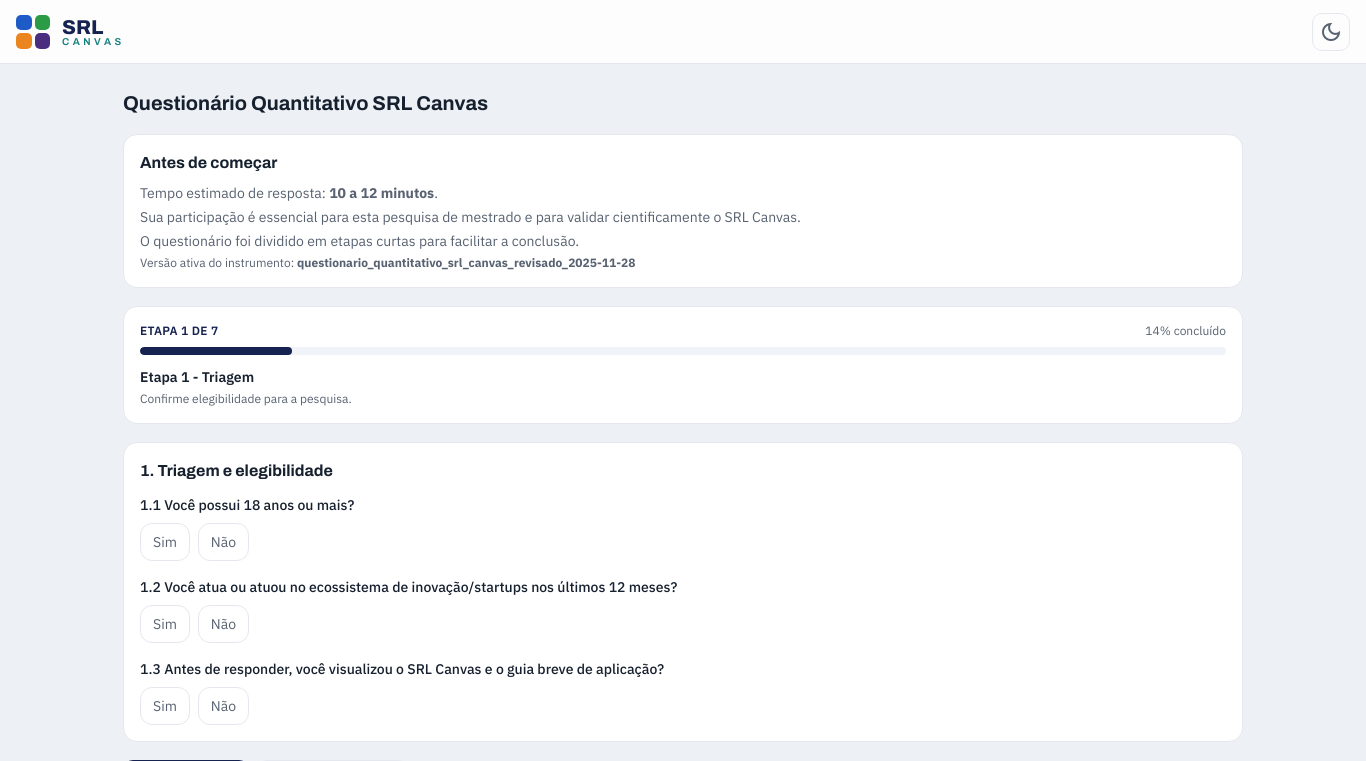
it: ResearchSurveyPage › shows step progress and advances after valid triage
Check: the text "Etapa 1 de 7" is shown, box [140, 323, 218, 339]
Click the radio button labelled "Sim" below "1.1 Você possui 18 anos ou mais?": (165, 542) [140, 523, 190, 561]
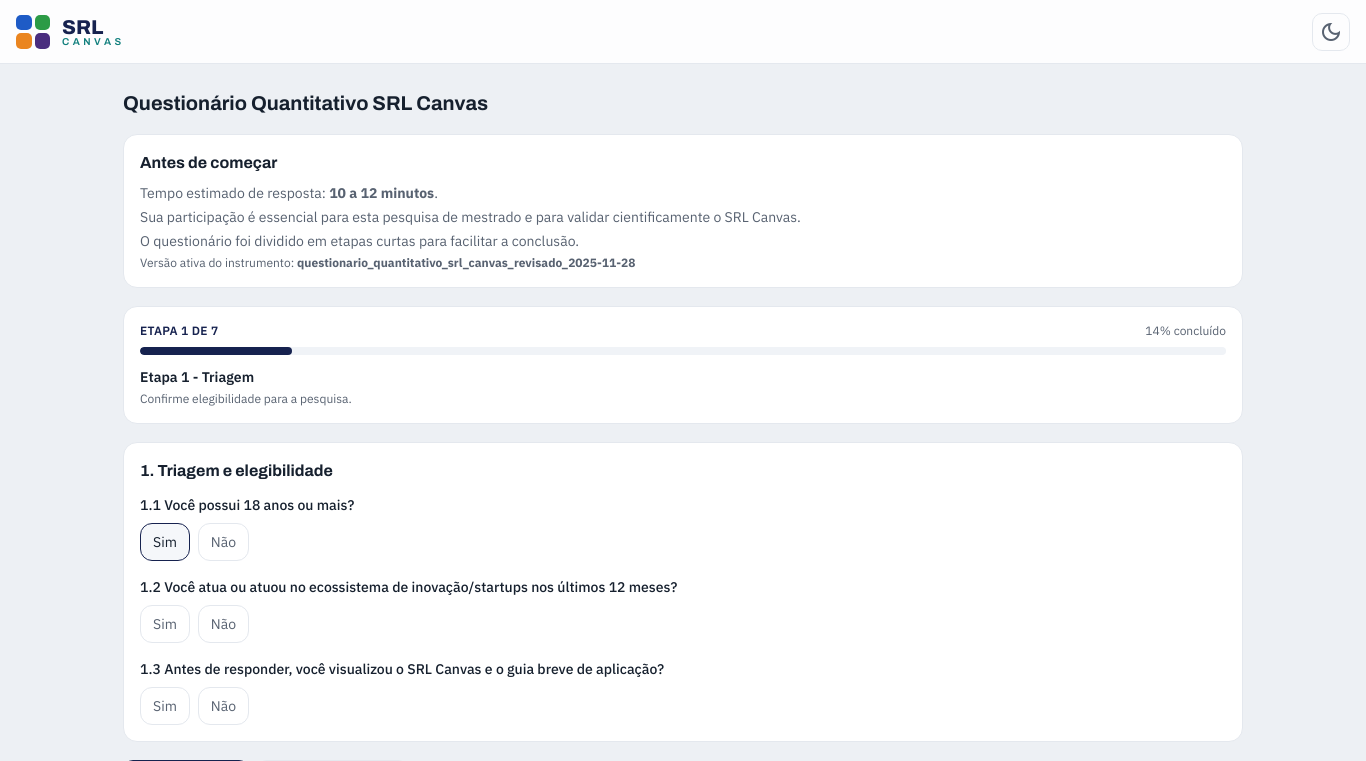
Click the 2nd radio button labelled "Sim": (165, 624) [140, 605, 190, 643]
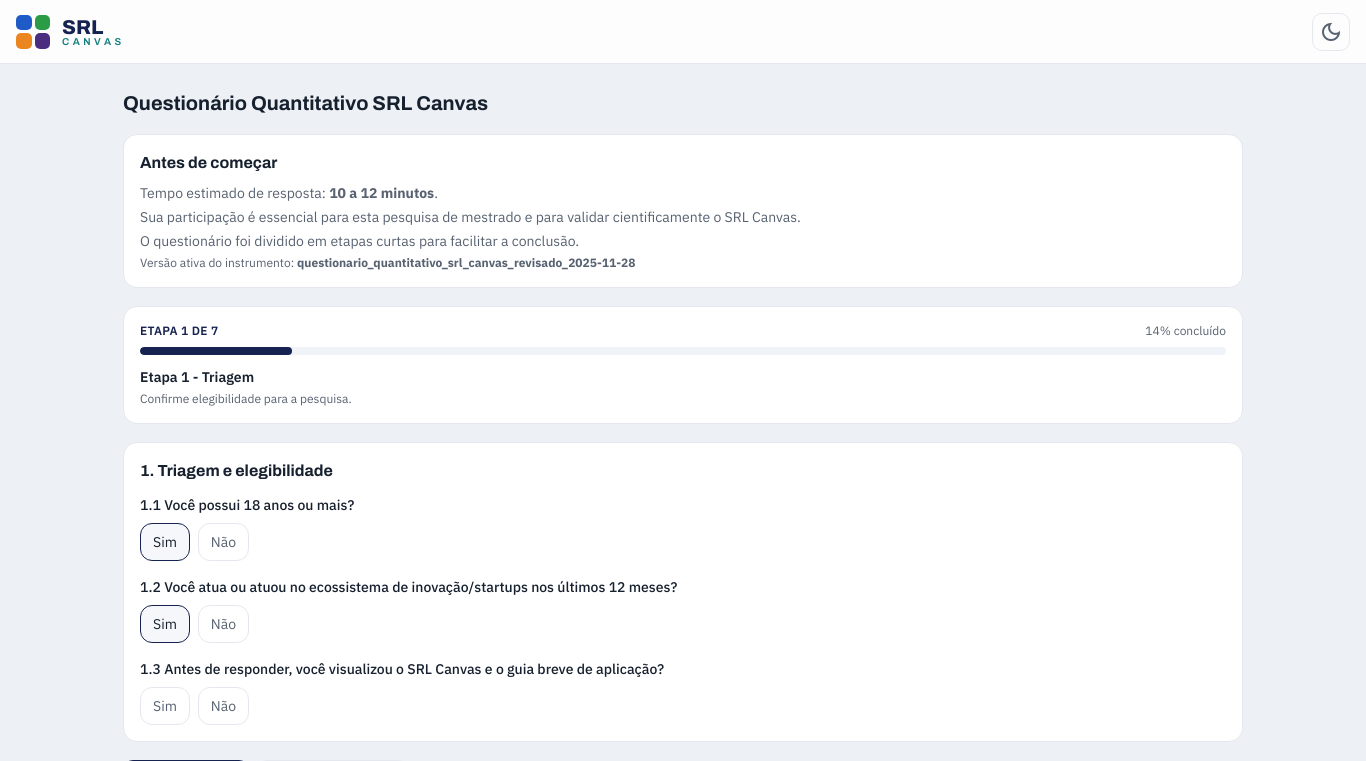
Click the 3rd radio button labelled "Sim": (165, 706) [140, 687, 190, 725]
(page scrolled)
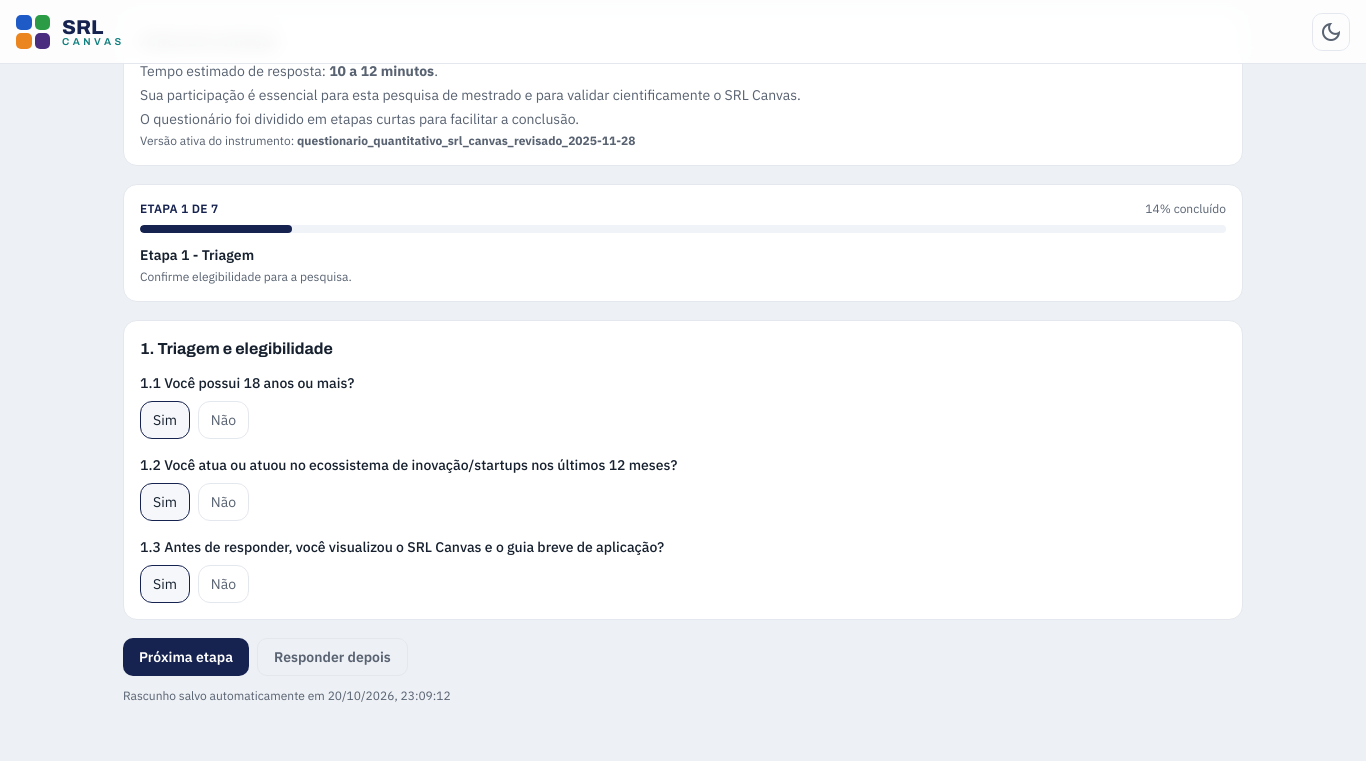
Click the button "Próxima etapa": (186, 657) [123, 638, 249, 676]
(page scrolled)
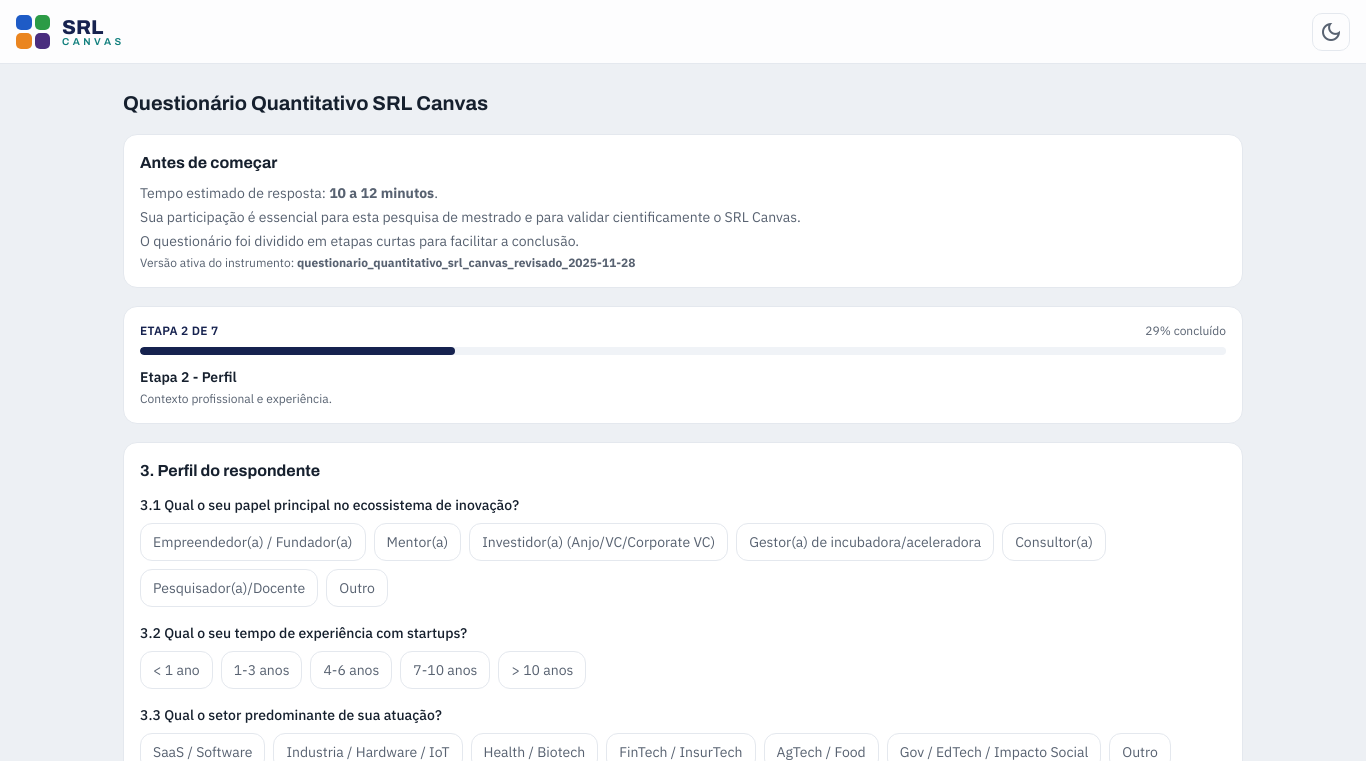
Check: the text "Etapa 2 de 7" is shown, box [140, 323, 218, 339]
Check: the heading "3. Perfil do respondente" is shown, box [140, 462, 320, 479]
